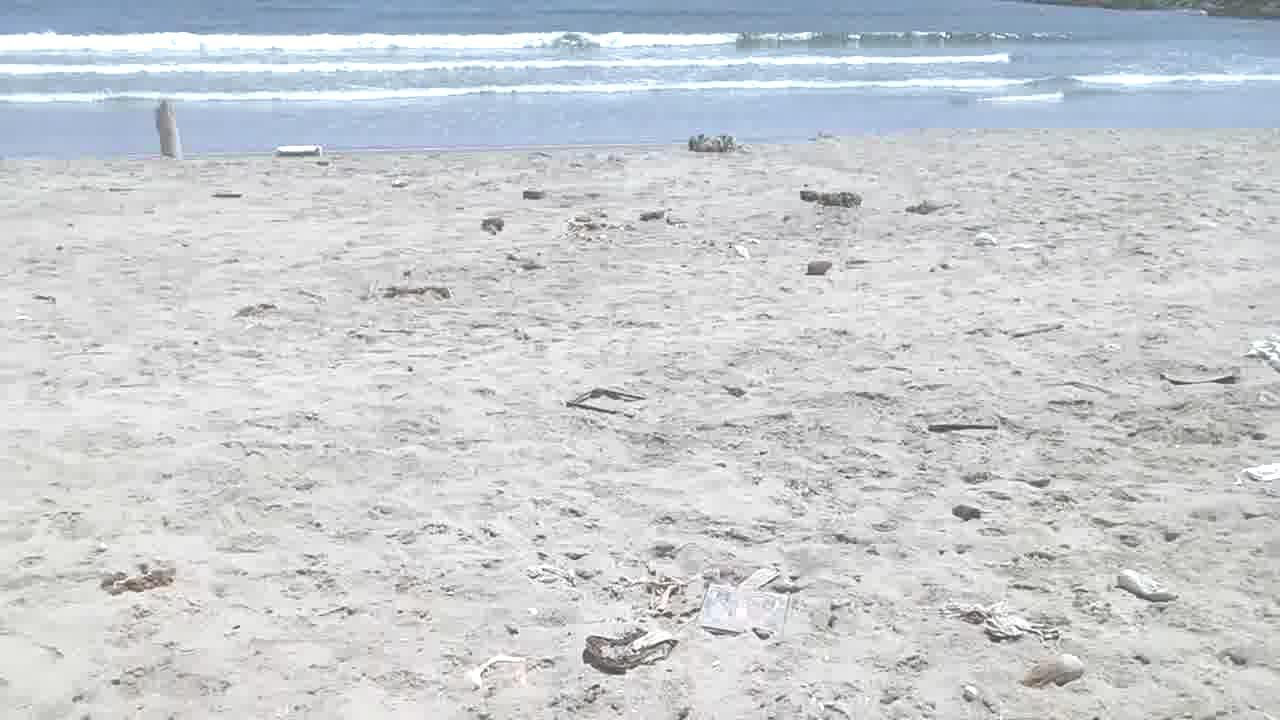large collection of objects: (679, 133, 752, 153)
obj: (576, 573, 690, 684), (956, 602, 1056, 644), (99, 558, 175, 600), (1111, 565, 1182, 600), (472, 652, 530, 692), (154, 102, 184, 162), (800, 185, 866, 206), (1250, 335, 1279, 375), (1160, 372, 1234, 387), (268, 142, 330, 159), (929, 420, 1003, 432), (1242, 459, 1279, 483), (806, 259, 834, 276), (477, 218, 502, 232)
sand/background: (0, 2, 1279, 161)
